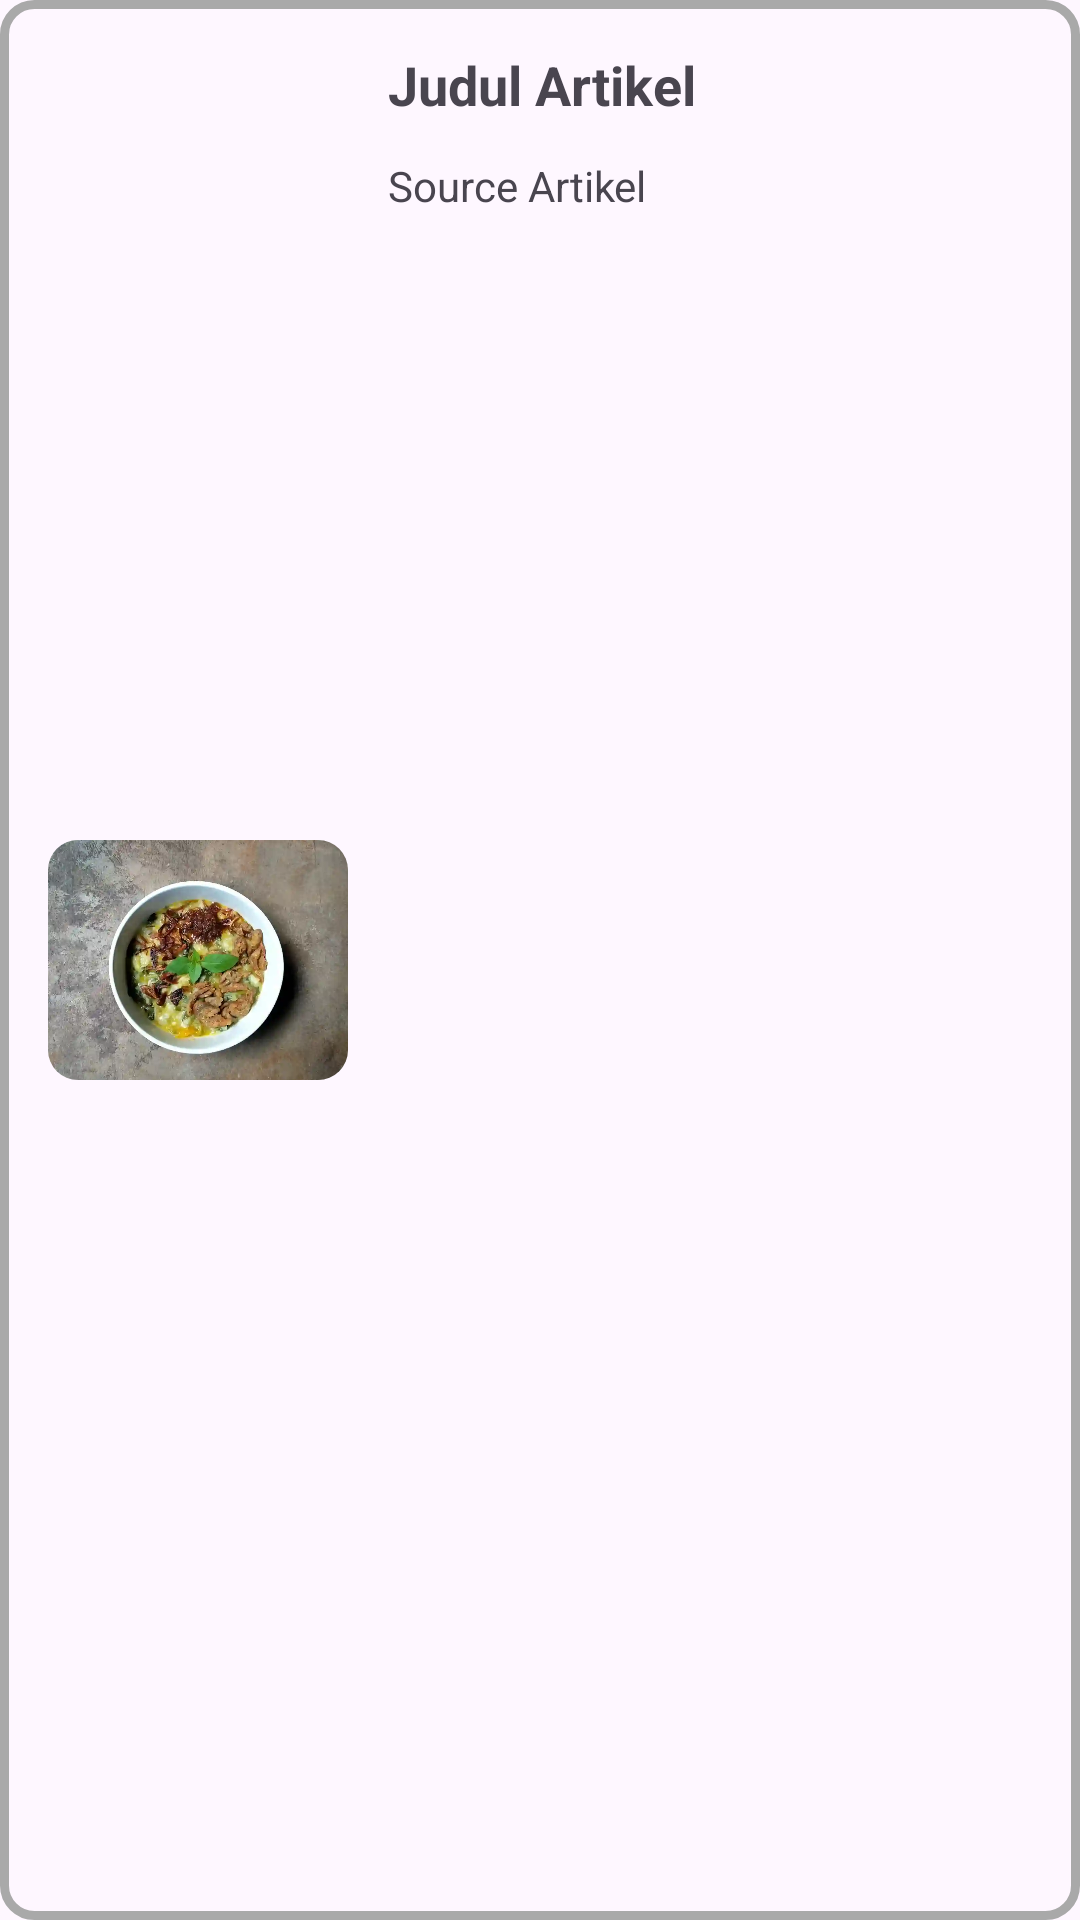

Where to tap for icons on this 1080 x 1920 app screen, as (x,y):
imgbuburmanado: (198,960)
